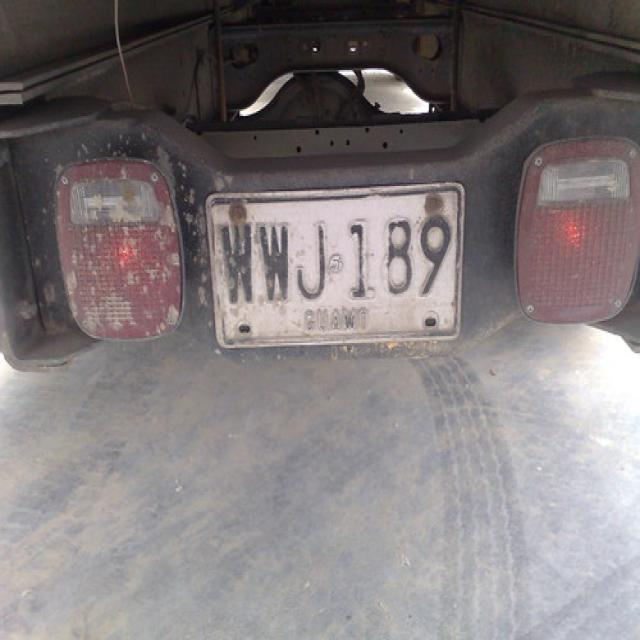placas: (214, 211, 450, 308)
